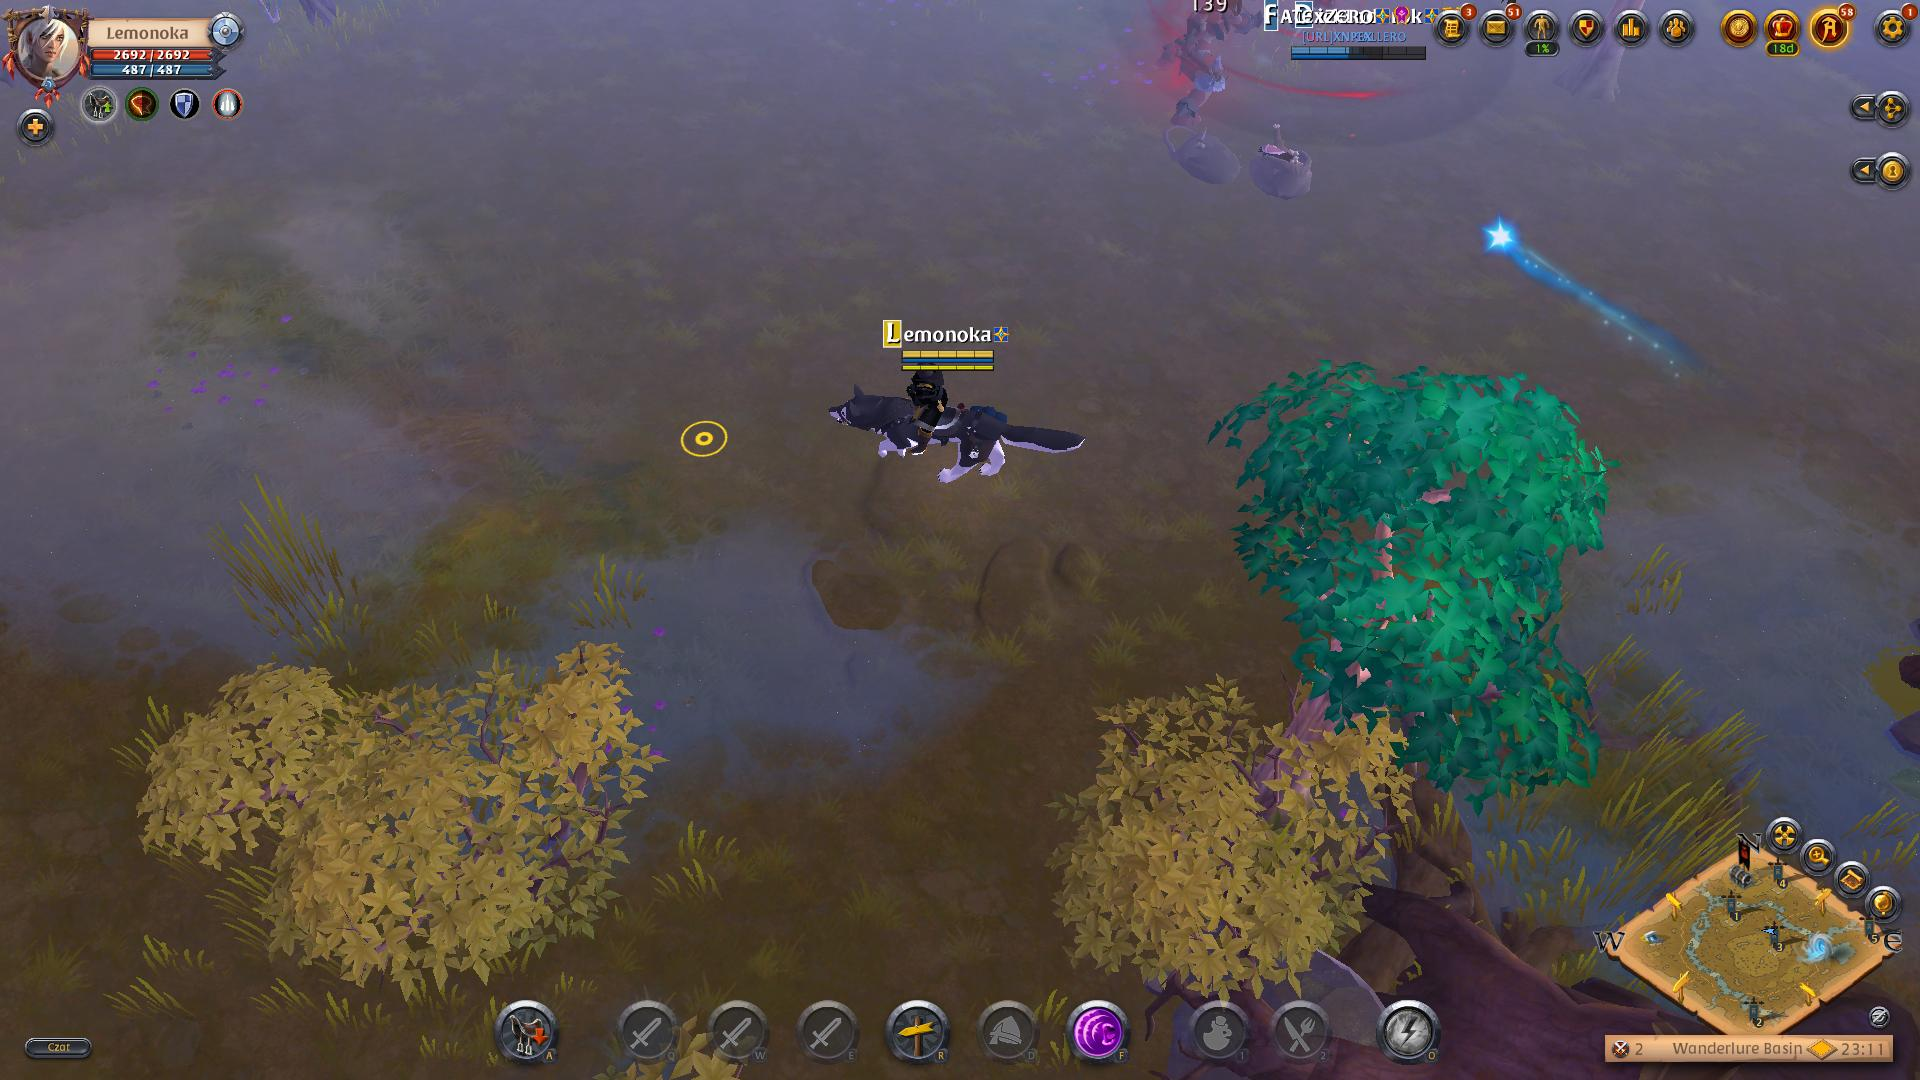wood tier 3: (1207, 353, 1615, 798)
